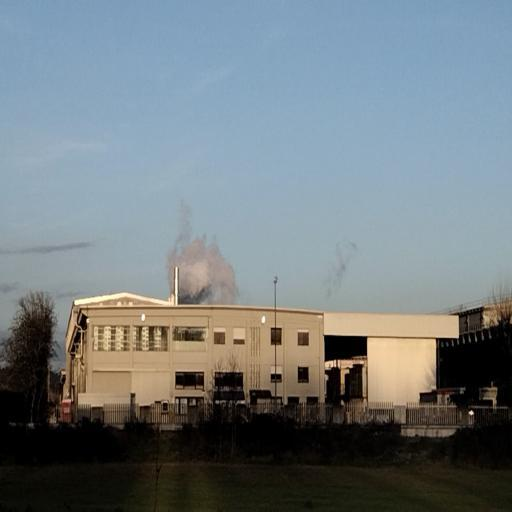leakage: (166, 228, 239, 305)
